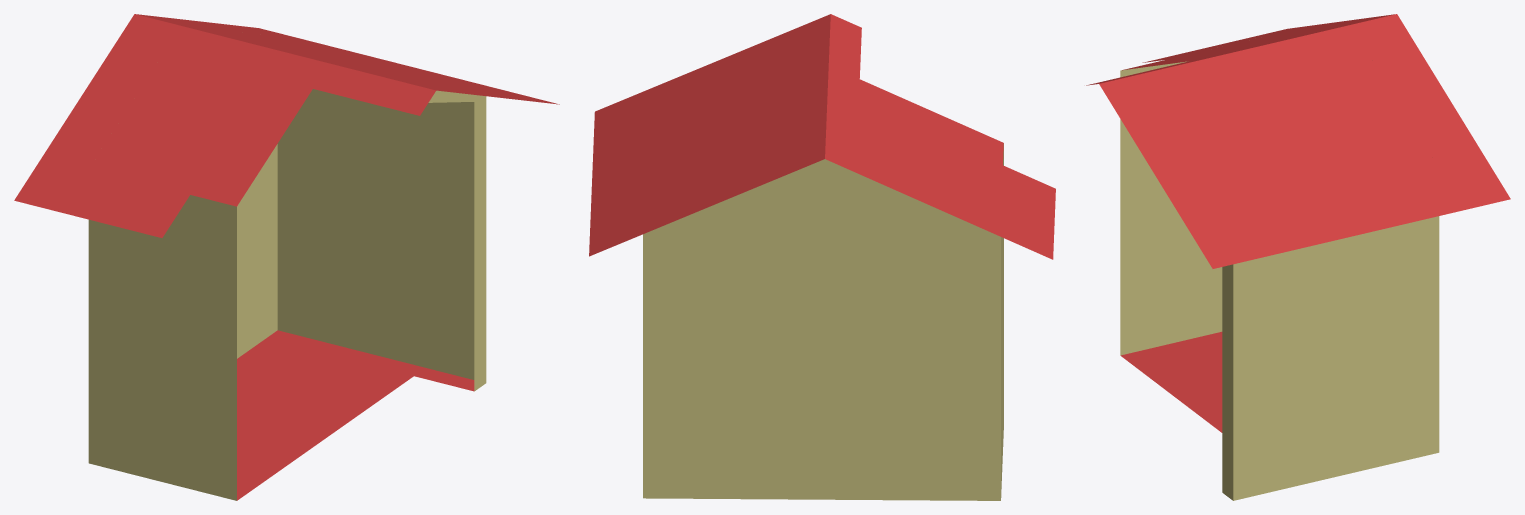
3 renders of one model, left to right at view 1: azimuth 30°, elevation 25°; view 2: azimuth 150°, elevation 25°; view 3: azimuth 270°, elevation 25°, orthographic. The views are drawn at different scales.
Size of the model in its own units: 10.79 by 8.1 by 7.55.
